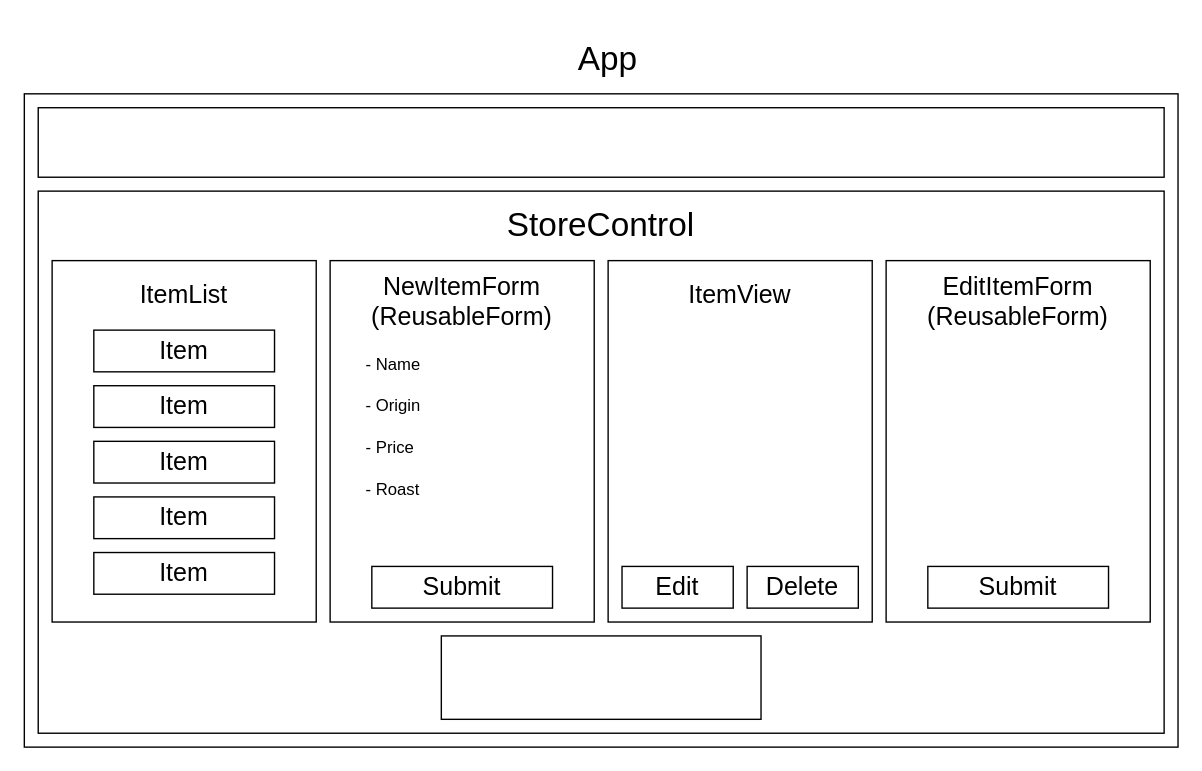
This 1202x771 diagram has some shape labels left out. Here are the shapes that lost their labels. From the top down, the centre of each, then its label:
the point at 600,141: Header
the point at 600,677: State Button (New Item, Return to Item List)
